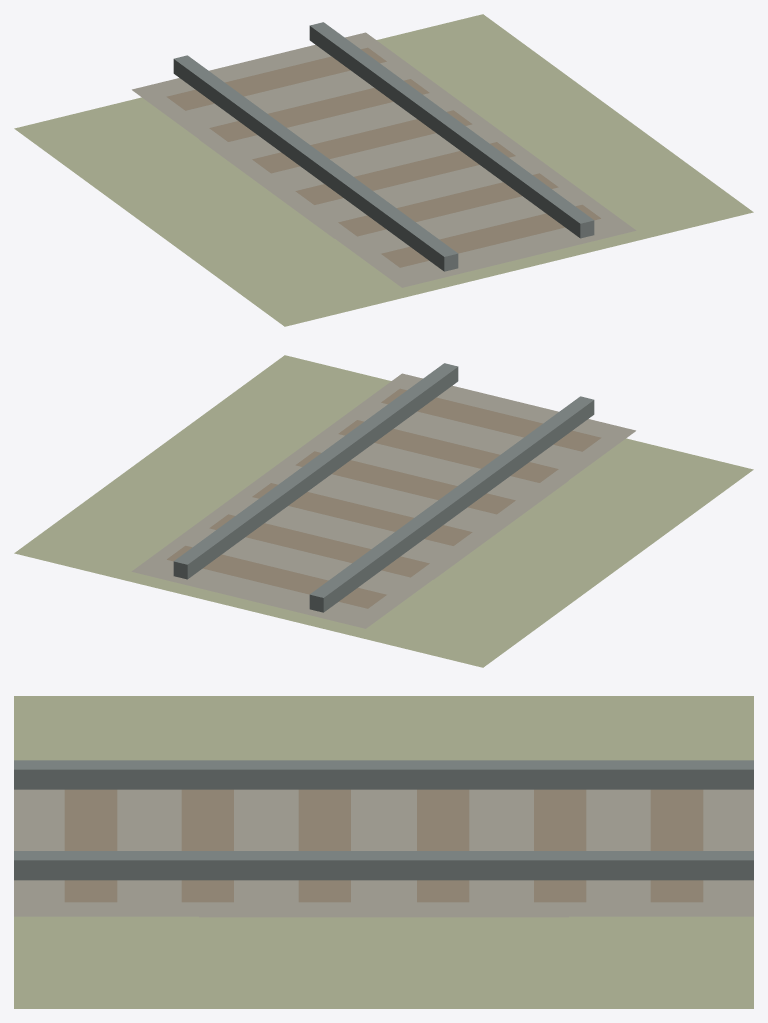
3 views of the same model, one above another, from view 1: azimuth 30°, elevation 25°; view 2: azimuth 150°, elevation 25°; view 3: azimuth 270°, elevation 25° (orthographic). The views are drawn at different scales.
Visible parts, largest first — view 1: Near; view 2: Near; view 3: Near.
Part boxes in pixels (x1,y1,x2,y2): Near: (14,14,753,326); Near: (14,355,753,667); Near: (14,696,753,1008).
Bounding box in the file's own units: 1 × 0.063 × 1.
